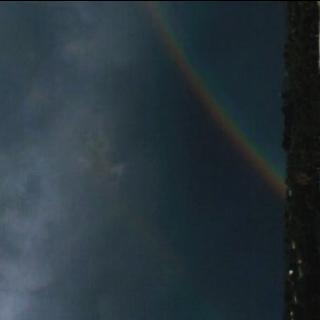Stratus: (0, 0, 253, 320)
